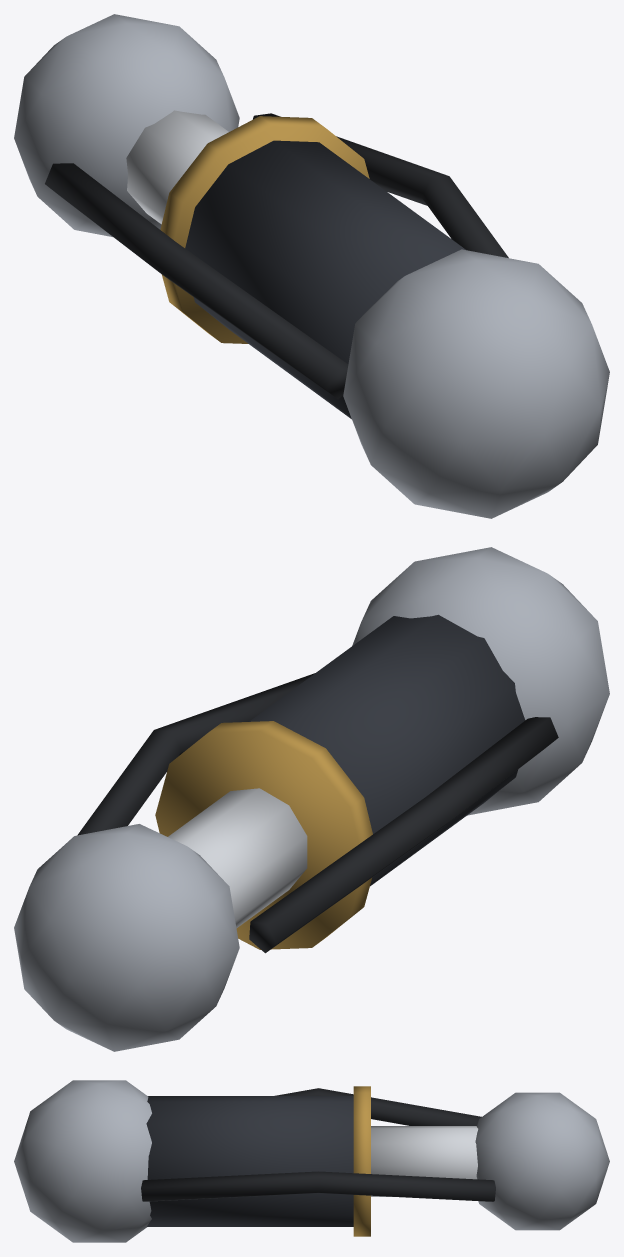
Rendered from prime_arm_strut.glb.
3 views of the same model, one above another, from view 1: azimuth 30°, elevation 25°; view 2: azimuth 150°, elevation 25°; view 3: azimuth 270°, elevation 25° (orthographic). The views are drawn at different scales.
Visible parts, largest first — view 1: prime_arm_strut; view 2: prime_arm_strut; view 3: prime_arm_strut.
Boxes of the visible parts, box(x1,y1,x2,y2) form: prime_arm_strut: box(14, 14, 609, 518); prime_arm_strut: box(14, 547, 609, 1051); prime_arm_strut: box(14, 1080, 609, 1242).
Bounding box in the file's own units: 0.5007 × 0.39 × 1.36.
